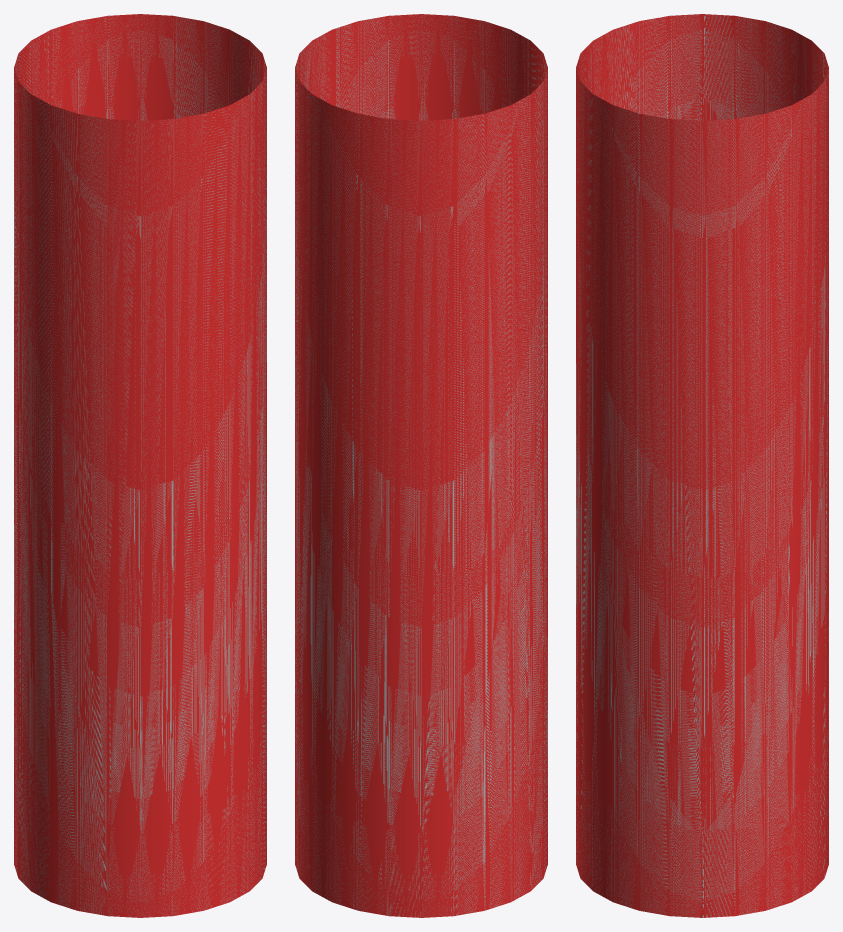
File: original-5.obj
The picture shows the model from 3 angles, left to right: view 1: azimuth 30°, elevation 25°; view 2: azimuth 150°, elevation 25°; view 3: azimuth 270°, elevation 25°; orthographic projection.
Parts seen in each view (by area): view 1: #ID1279; view 2: #ID1279; view 3: #ID1279.
Boxes of the visible parts, box(x1,y1,x2,y2) form: #ID1279: box(14, 14, 266, 917); #ID1279: box(295, 14, 547, 917); #ID1279: box(576, 14, 828, 917).
Bounding box in the file's own units: 0.0346 × 0.1204 × 0.0346.
